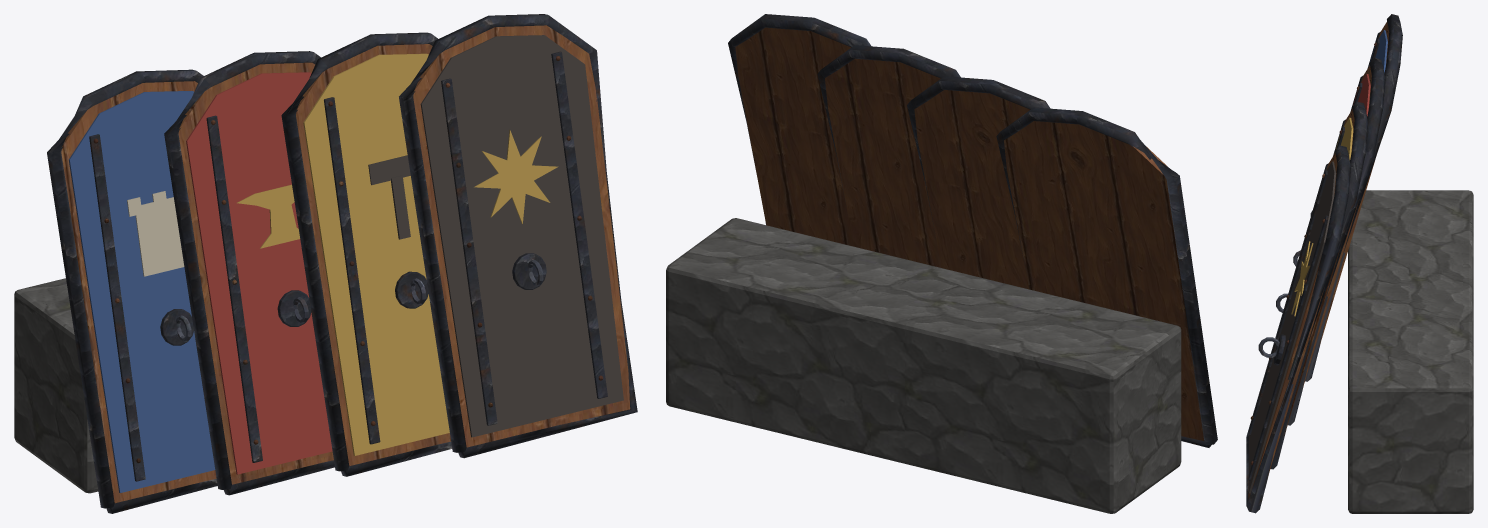
Rendered from hs_tower_shields_chained.glb.
The picture shows the model from 3 angles, left to right: view 1: azimuth 30°, elevation 25°; view 2: azimuth 150°, elevation 25°; view 3: azimuth 270°, elevation 25°; orthographic projection. The views are drawn at different scales.
Visible parts, largest first — view 1: model; view 2: model; view 3: model.
Boxes of the visible parts, x1=… form: model: x1=14, y1=14, x2=637, y2=513; model: x1=666, y1=14, x2=1217, y2=513; model: x1=1246, y1=14, x2=1473, y2=513.
Bounding box in the file's own units: 1.59 × 1.13 × 0.7236.
Materials: 11 (5 with a texture image).
